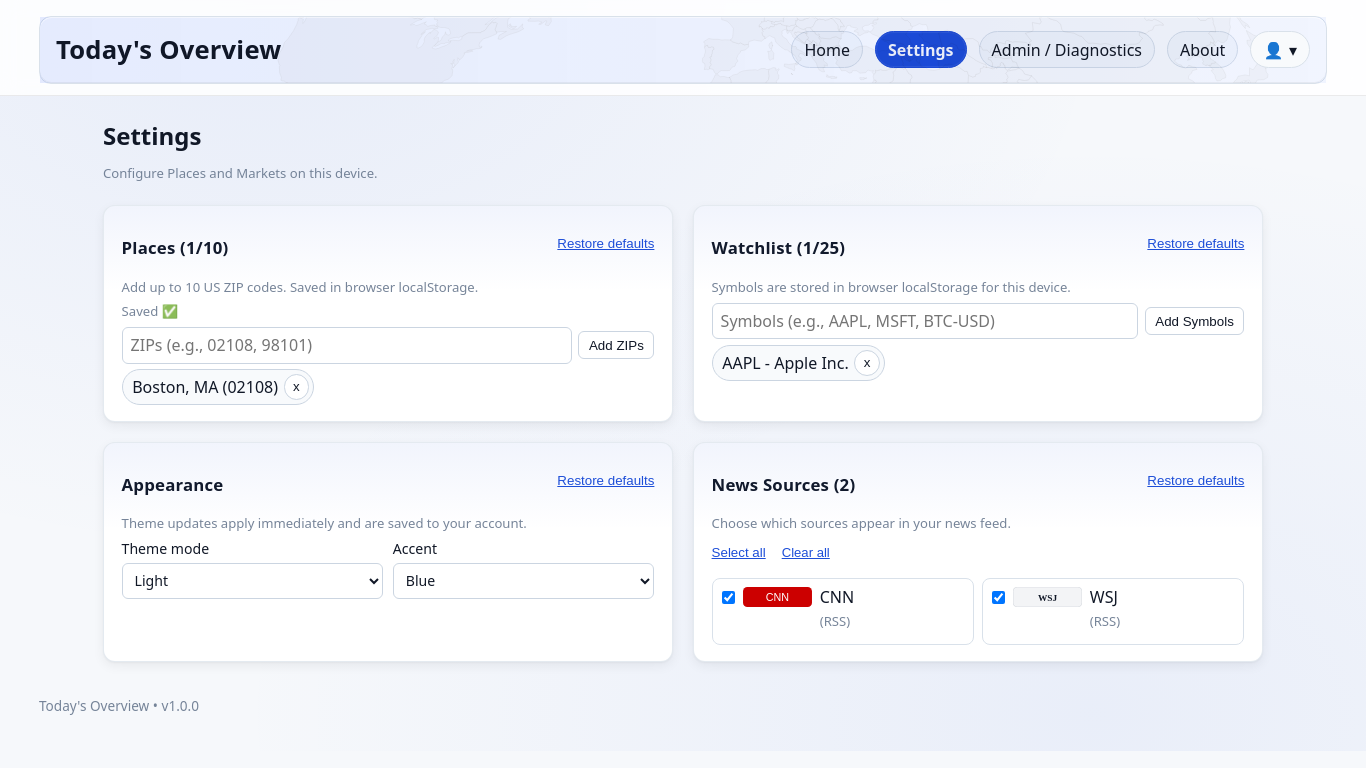
Test: App › deletes account from user menu and returns to signed-out state
Click the button named "Open user menu": (1280, 50) left=1250, top=31, right=1310, bottom=68
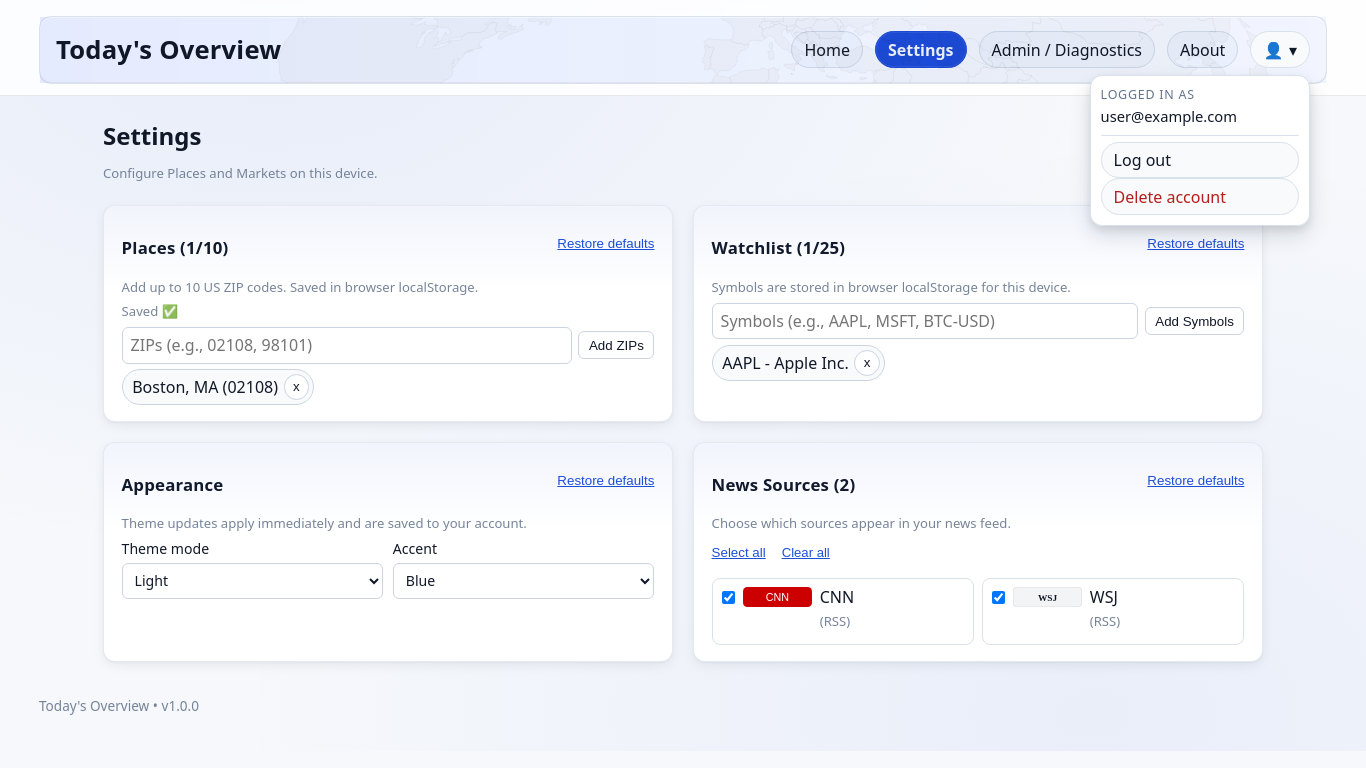
Click the button "Delete account": (1200, 197) left=1101, top=178, right=1299, bottom=215
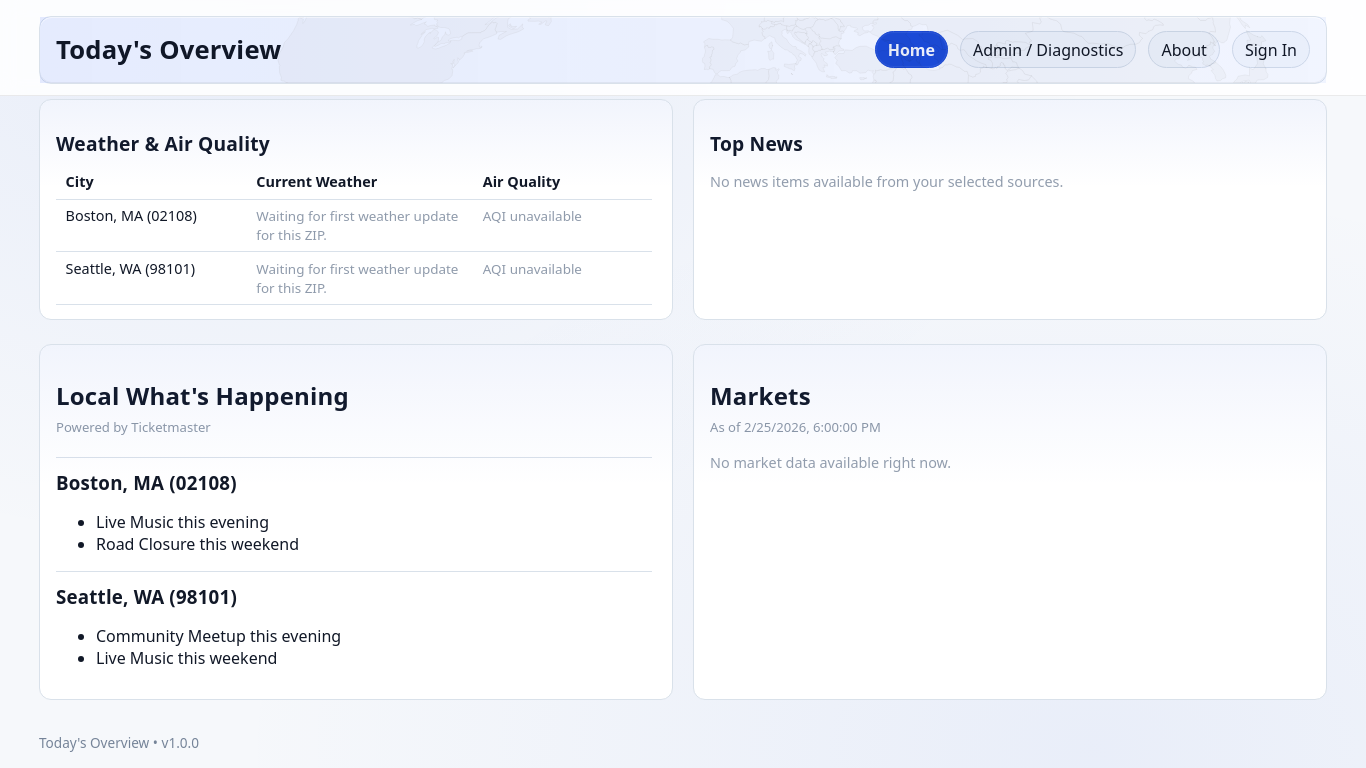
Check: the link "Sign In" is shown, box left=1232, top=31, right=1310, bottom=68
